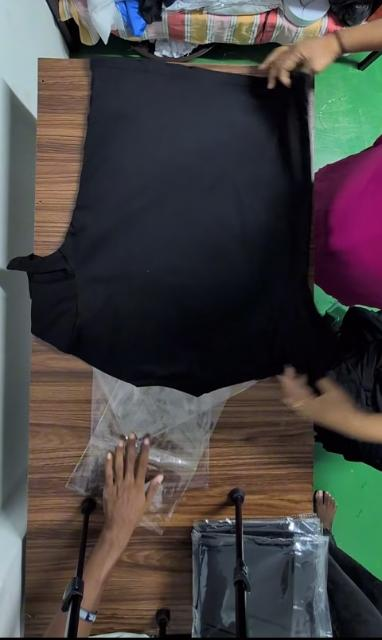new-garment: (9, 58, 334, 396)
